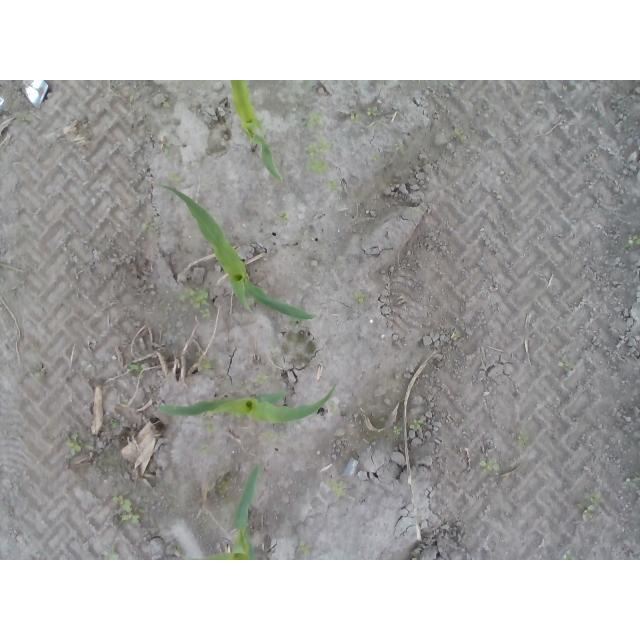Maize: (157, 183, 315, 322), (160, 385, 337, 426), (184, 465, 261, 559), (227, 80, 286, 181)
Weeds: (175, 287, 211, 319), (306, 137, 330, 176), (118, 497, 142, 525), (325, 475, 348, 497), (63, 435, 85, 456), (306, 111, 327, 130), (479, 458, 502, 473), (197, 355, 216, 371), (586, 492, 603, 509), (125, 362, 143, 375), (557, 355, 572, 370), (102, 549, 122, 560), (625, 233, 640, 247), (365, 105, 379, 119), (409, 417, 424, 430), (254, 373, 269, 386), (352, 290, 367, 302), (300, 542, 311, 555), (279, 213, 290, 224), (327, 181, 338, 192), (351, 112, 361, 124), (111, 420, 121, 428), (393, 426, 401, 434)
